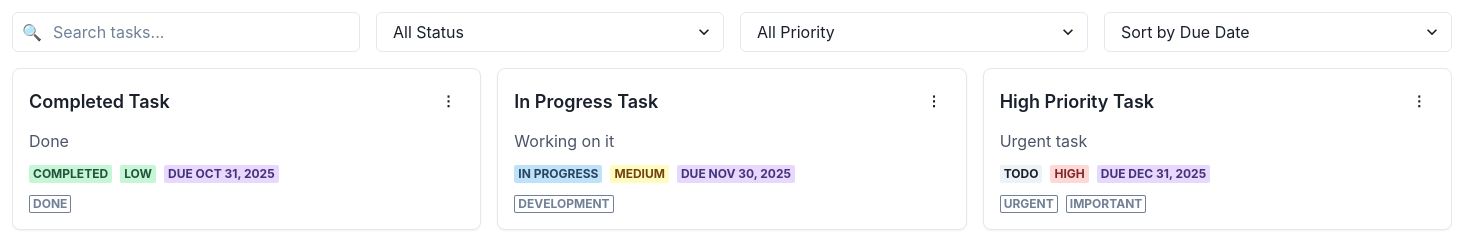
TaskList Component › displays no tasks message when filtered results are empty
Type "nonexistent task" into the field with placeholder "Search tasks..." at coordinates (186, 32), box left=12, top=12, right=360, bottom=52
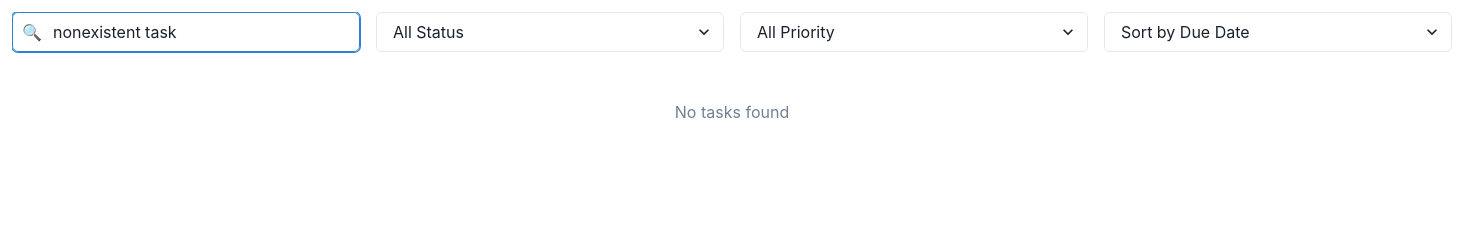
Now the text "No tasks found" is shown, box left=675, top=102, right=789, bottom=122
